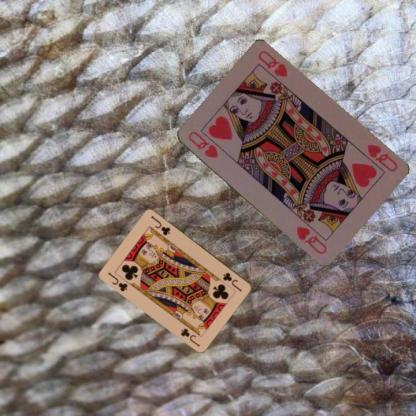Jc: (105, 269, 130, 293), (221, 270, 243, 293)
Qh: (364, 141, 399, 174), (185, 129, 219, 159)
